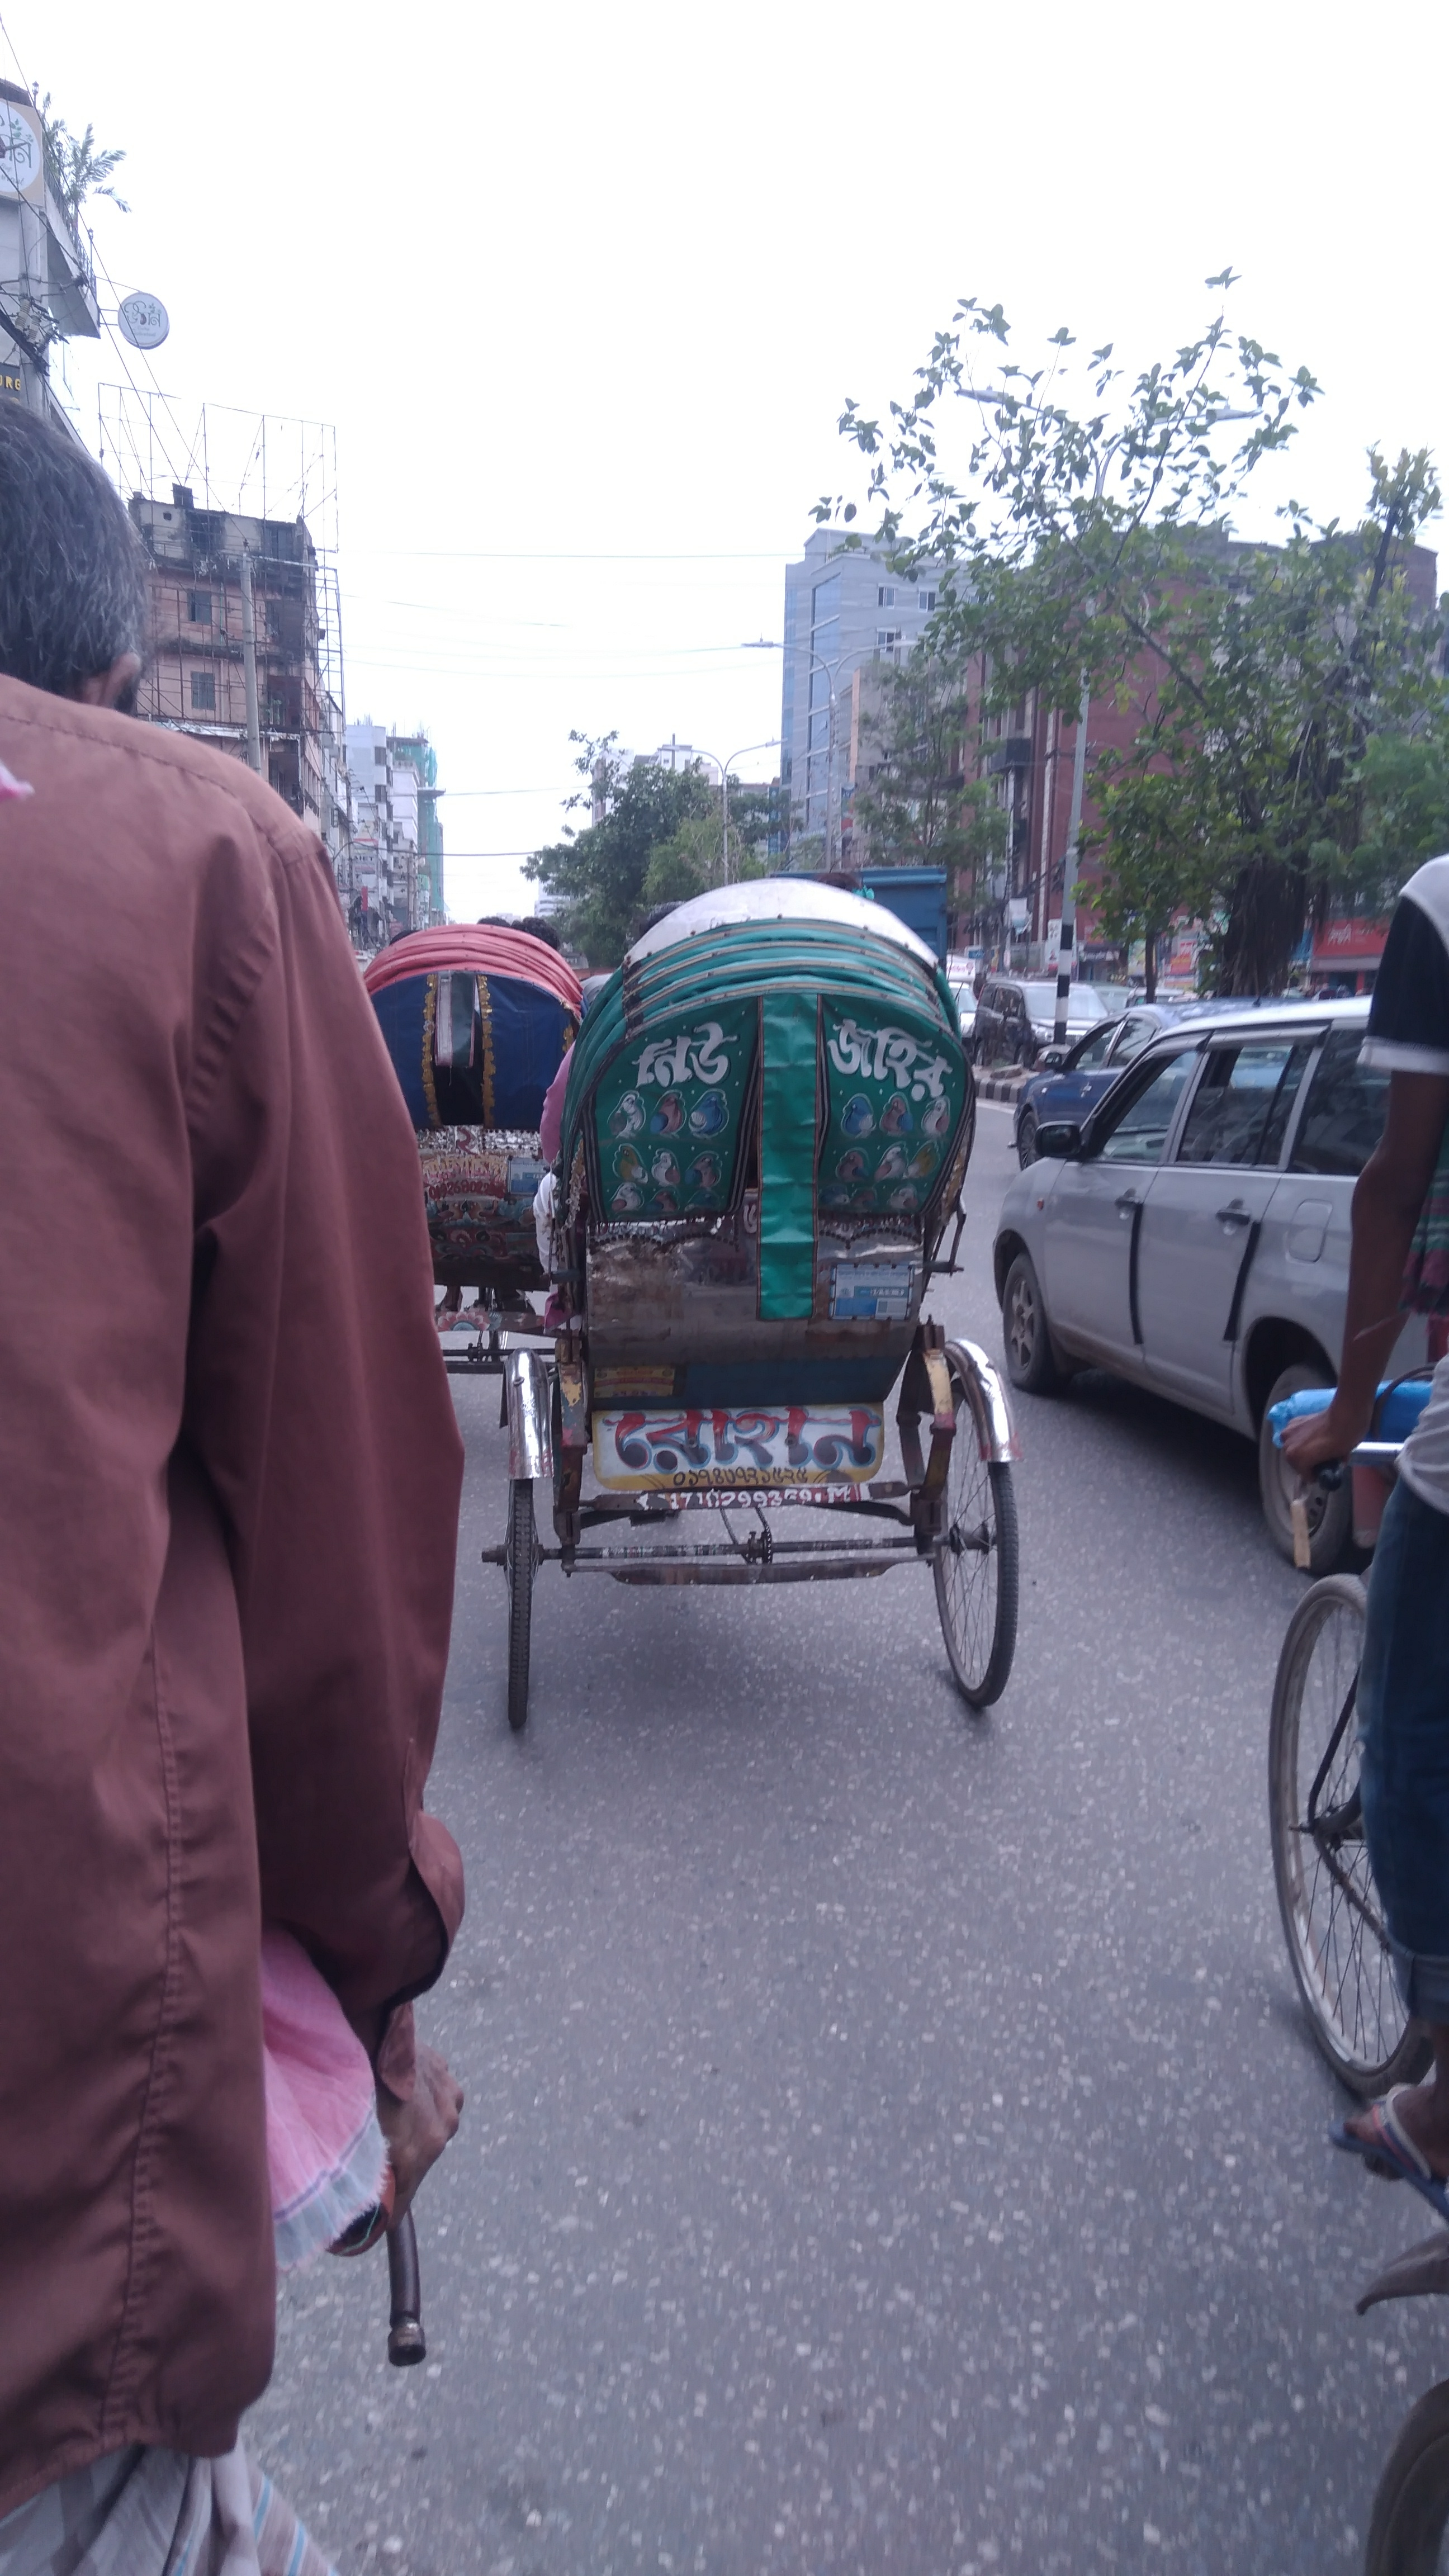car: (1000, 1003, 1373, 1543), (1012, 1003, 1200, 1166)
rickshaw: (481, 874, 1024, 1734), (1256, 1350, 1449, 2093), (364, 922, 596, 1378)
